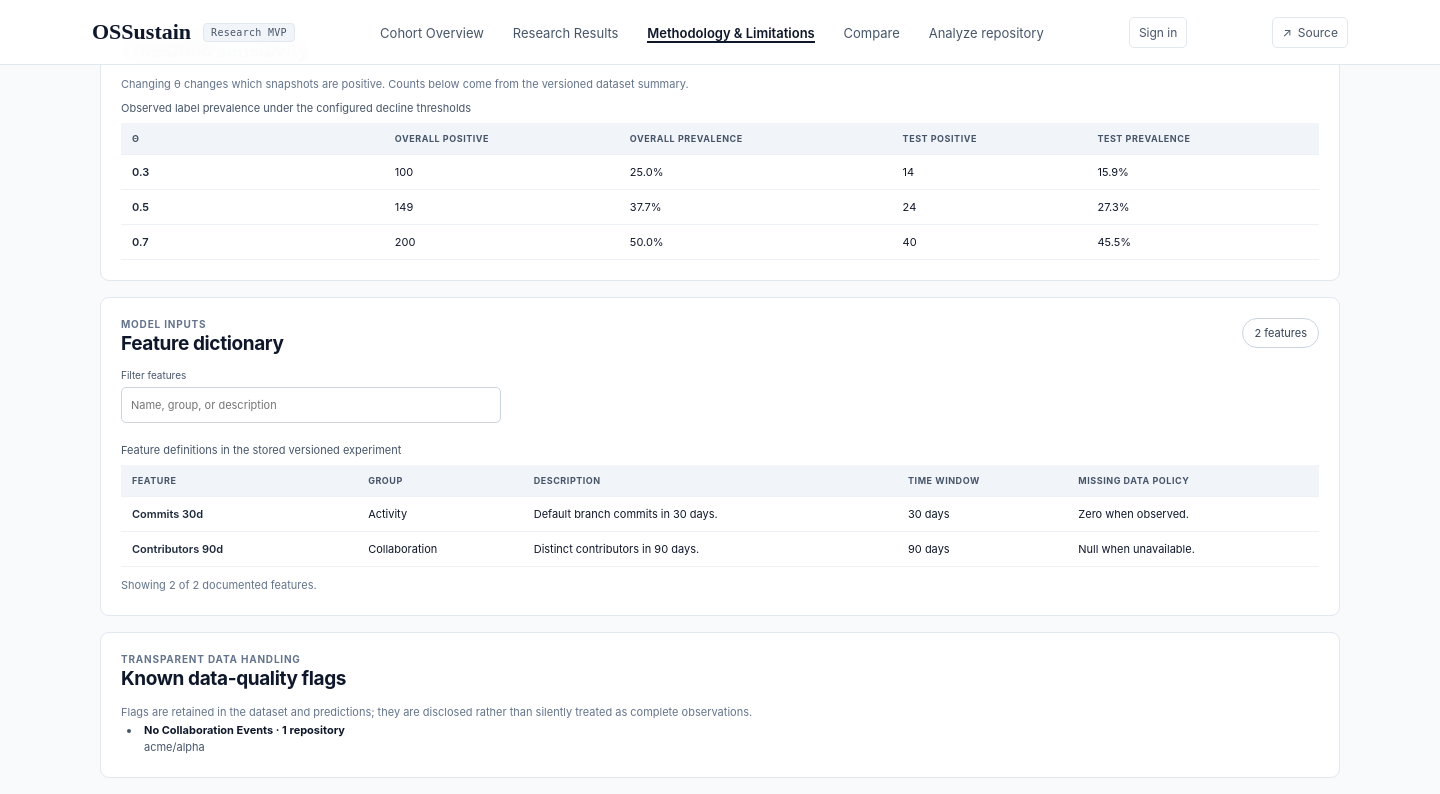
Test: Dashboard screens › renders methodology definitions, split design, sensitivity and filtered feature dictionary
This screenshot has width=1440, height=794.
(page scrolled)
Expected: the table "Observed label prevalence under the configured decline thresholds" is shown, [121,93,1319,260]
Expected: the text "No Collaboration Events · 1 repository" is shown, [144,723,345,737]
Type "collaboration" into the search field labelled "Filter features" at (311, 405), box [121,387,501,423]
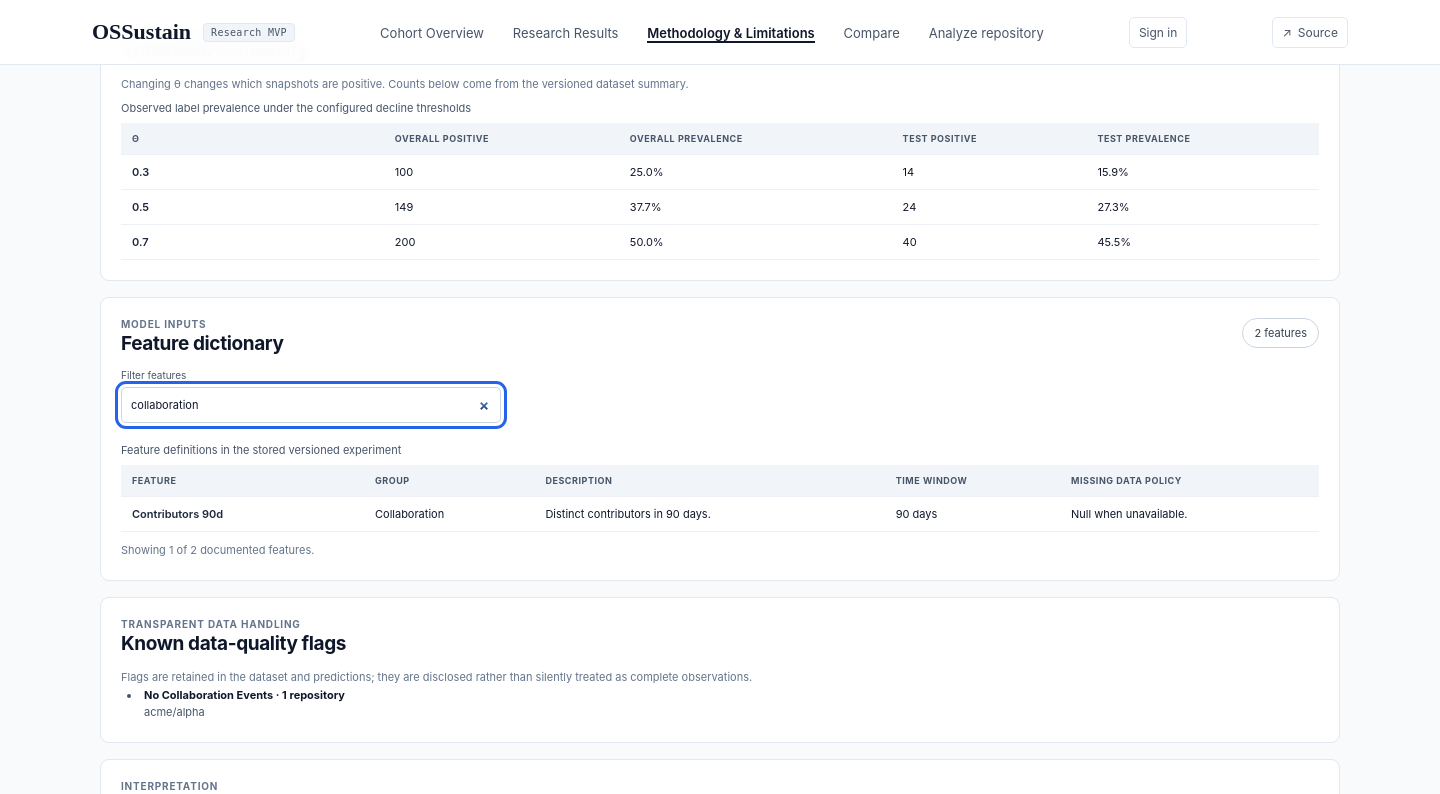
Expected: the column heading "Contributors 90d" is shown, [121,497,364,532]
Expected: the column heading "Commits 30d" is gone
